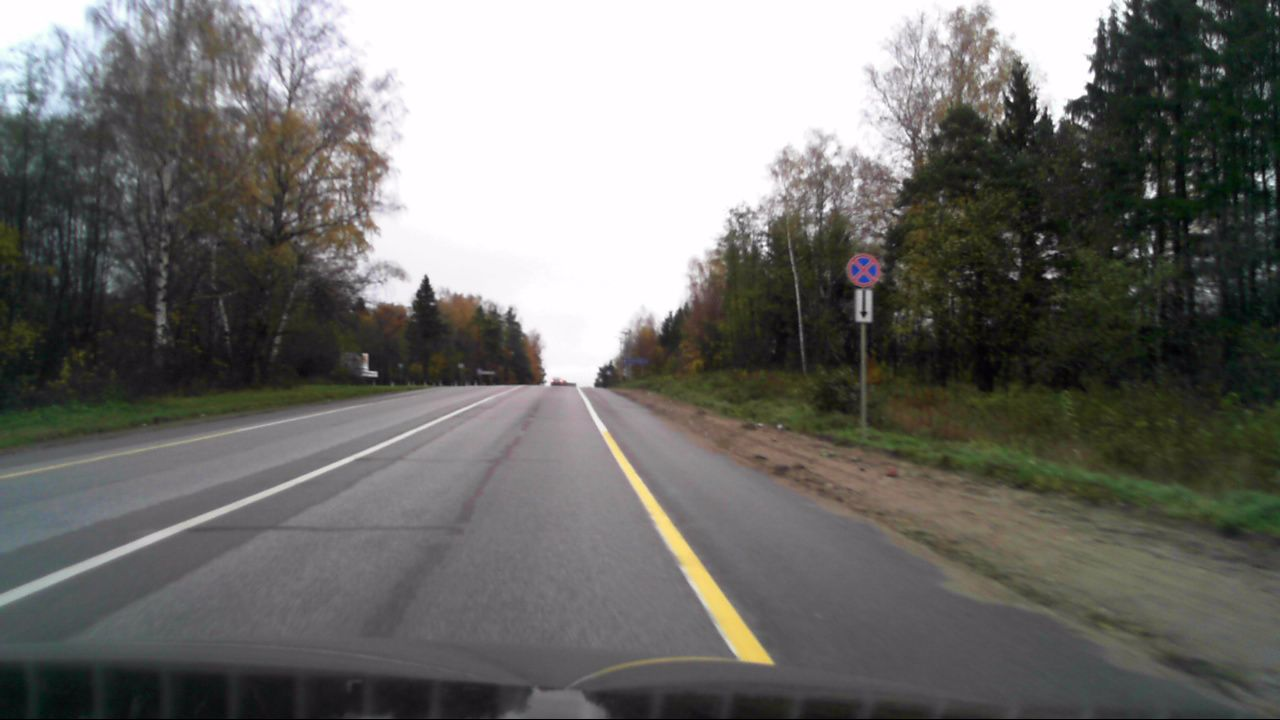No Parking: (845, 253, 880, 288)
